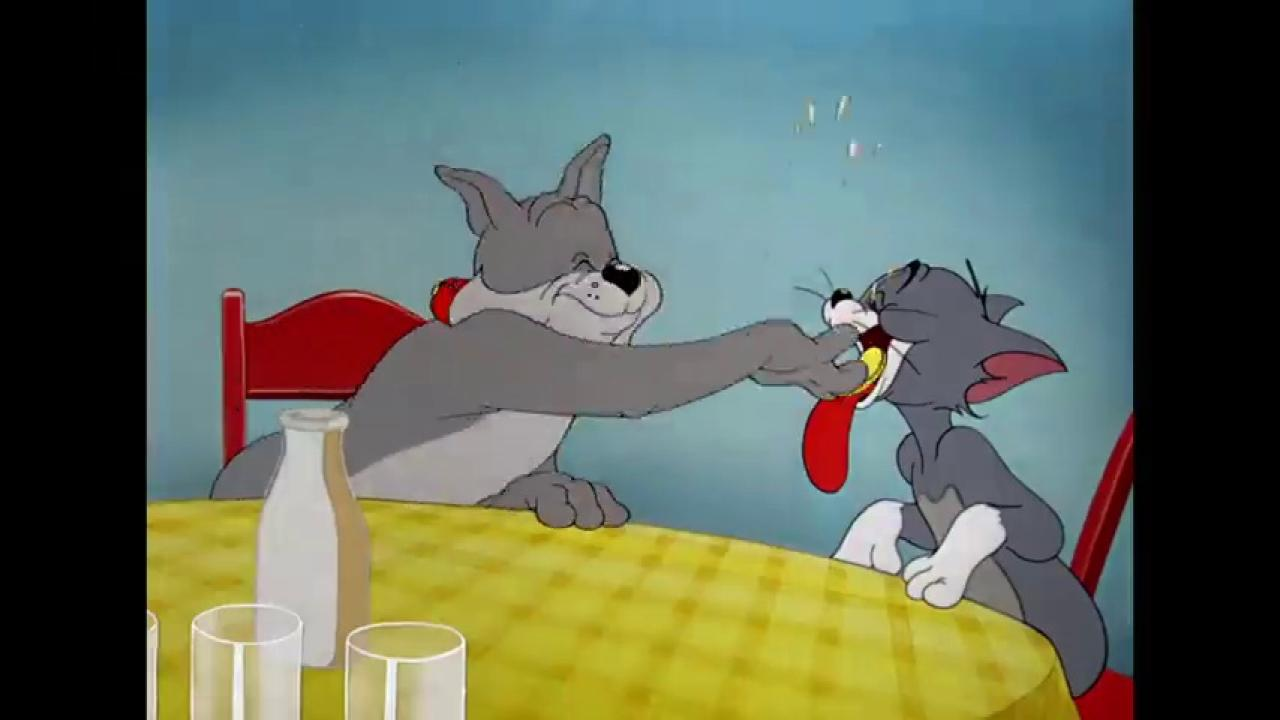Tom: (798, 257, 1111, 702)
